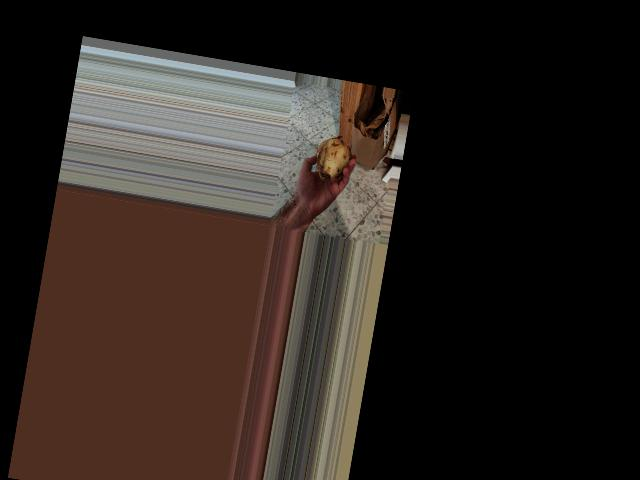onion: (309, 131, 355, 185)
